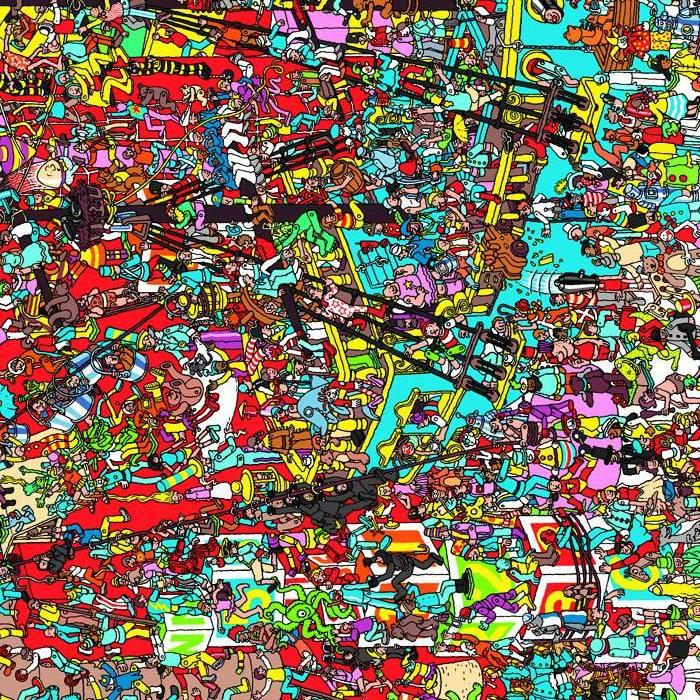waldos: (421, 485, 456, 506)
